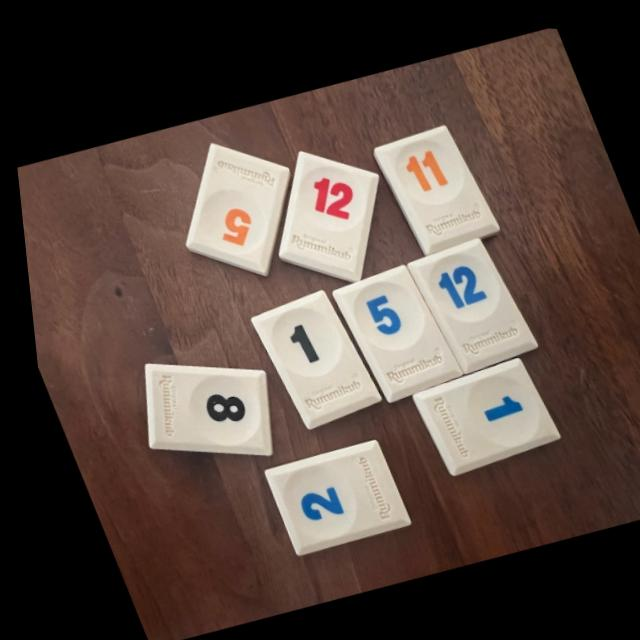black_1: (245, 287, 372, 424)
black_8: (137, 362, 262, 453)
blue_1: (405, 352, 551, 471)
blue_12: (402, 234, 529, 367)
blue_2: (254, 436, 400, 552)
blue_5: (326, 262, 454, 398)
orange_11: (371, 121, 494, 249)
orange_5: (180, 141, 287, 272)
red_12: (273, 147, 375, 278)
